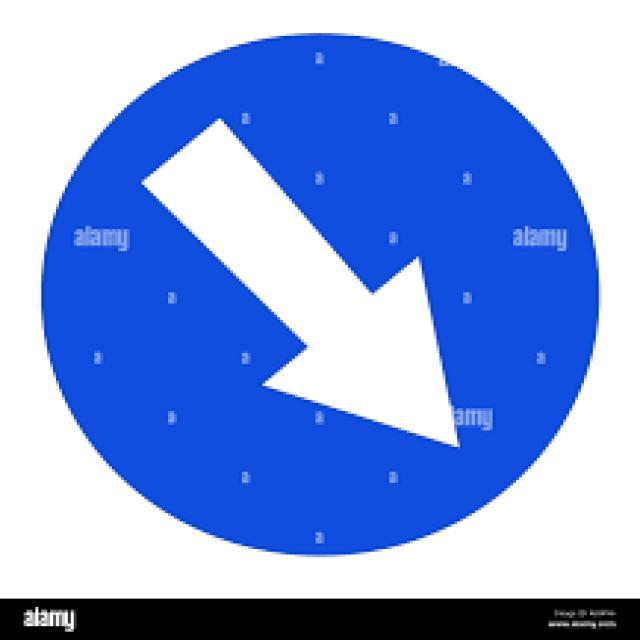compulsary keep right: (39, 34, 599, 555)
